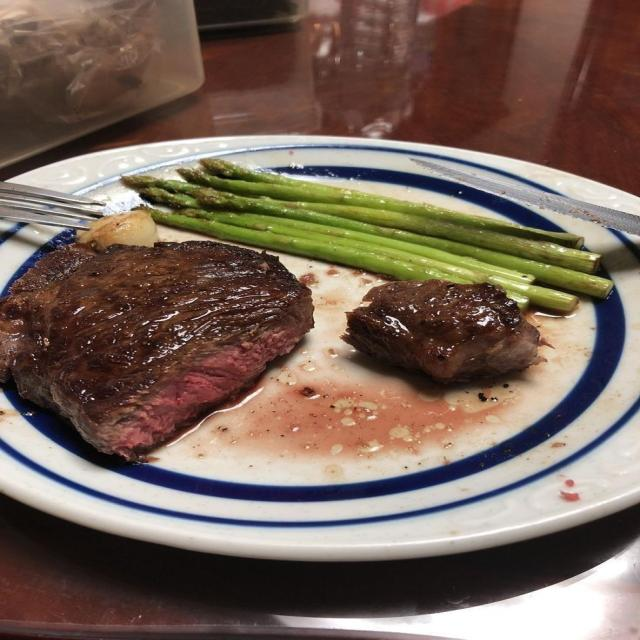asparagus: (177, 185, 599, 279), (177, 160, 577, 250), (174, 197, 539, 275), (152, 211, 477, 283), (330, 216, 605, 294), (155, 212, 435, 279), (254, 216, 525, 283), (471, 247, 612, 298), (489, 276, 577, 312), (140, 187, 203, 209), (125, 175, 200, 193), (135, 177, 177, 196)
beef steak: (0, 241, 313, 460), (342, 280, 543, 383)
